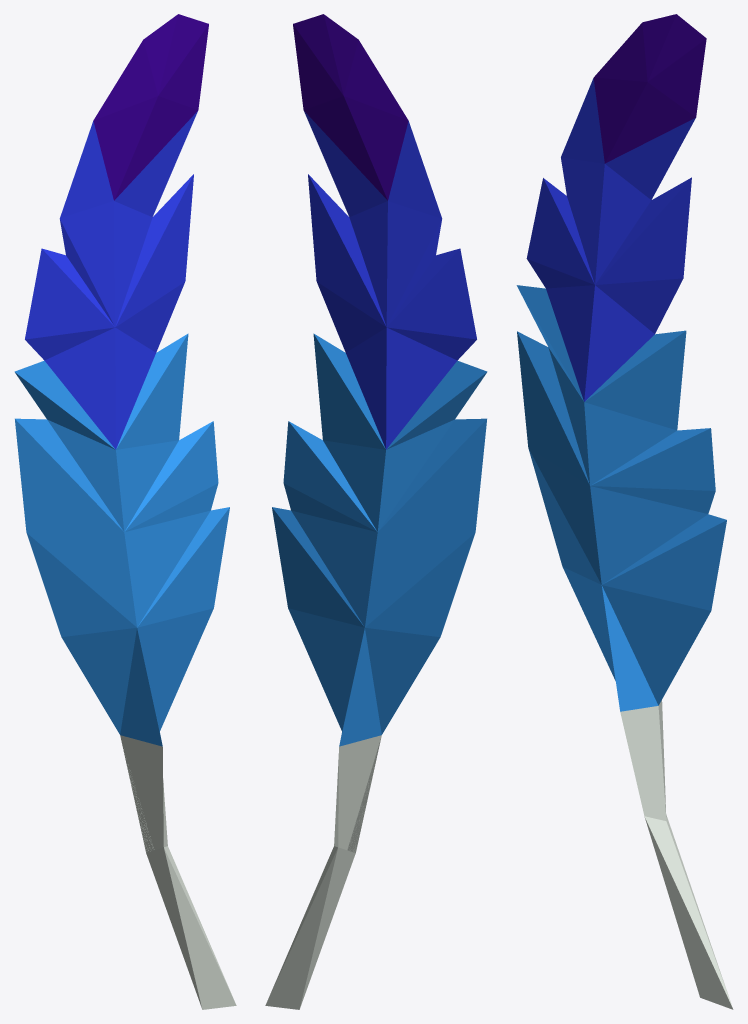
File: 羽毛笔.fbx
3 views of the same model, side by side, from view 1: azimuth 30°, elevation 25°; view 2: azimuth 150°, elevation 25°; view 3: azimuth 330°, elevation 25° (orthographic). The views are drawn at different scales.
Visible parts, largest first — view 1: Circle; view 2: Circle; view 3: Circle.
Boxes of the visible parts, x1,y1,x2,y2 form: Circle: (14,14,236,1009); Circle: (265,14,487,1009); Circle: (516,14,733,1009).
Bounding box in the file's own units: 635 × 2745 × 209.
